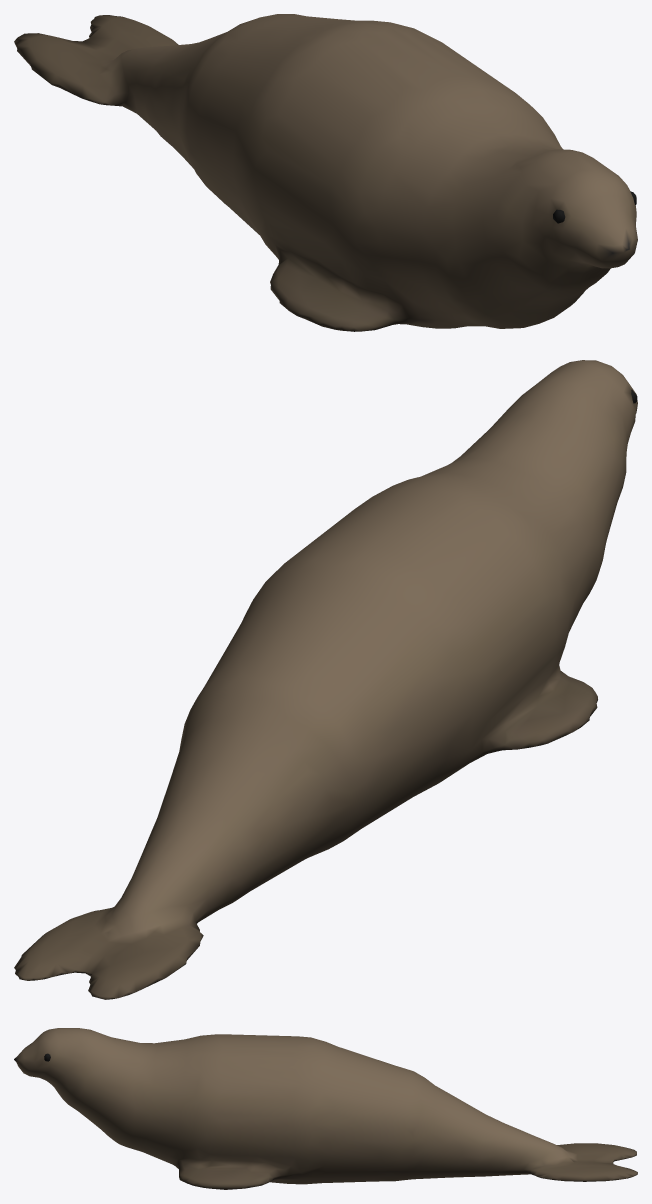
File: seeloewe.glb
3 views of the same model, one above another, from view 1: azimuth 30°, elevation 25°; view 2: azimuth 150°, elevation 25°; view 3: azimuth 270°, elevation 25° (orthographic). The views are drawn at different scales.
Parts seen in each view (by area): view 1: lack; view 2: lack; view 3: lack.
Part boxes in pixels (x1,y1,x2,y2): lack: (14, 14, 637, 331); lack: (14, 360, 637, 999); lack: (14, 1028, 637, 1189).
Bounding box in the file's own units: 0.8013 × 0.6649 × 2.68.
